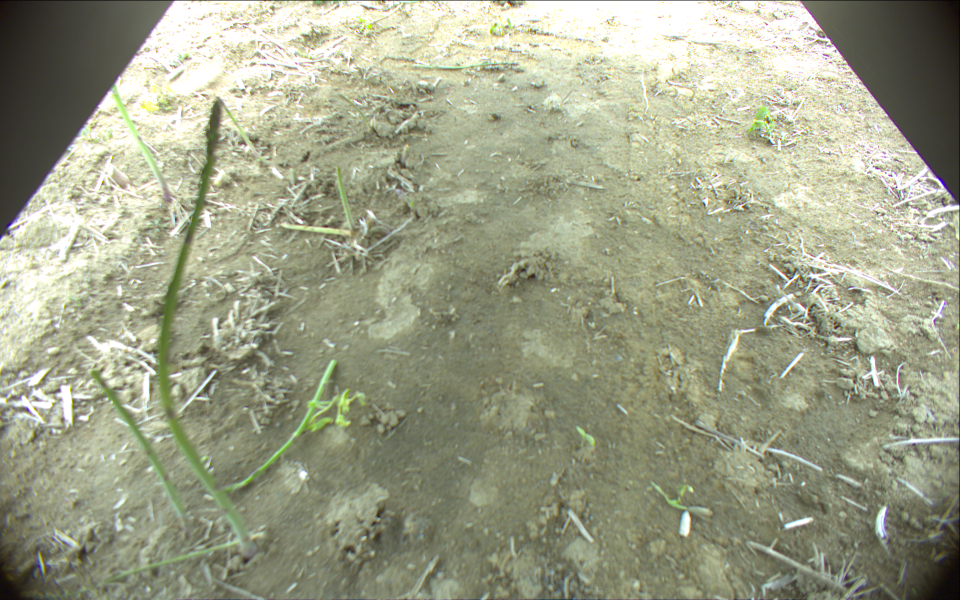aspa: (154, 100, 259, 558), (89, 369, 189, 533), (220, 360, 334, 494), (92, 536, 268, 585), (110, 83, 174, 203), (217, 100, 265, 161), (333, 166, 355, 229), (279, 223, 355, 238), (413, 61, 519, 70)
